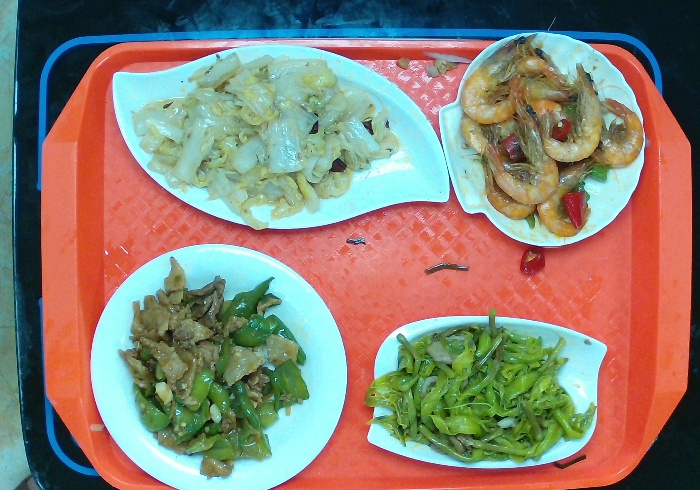RJxy-Bei_Ke_Wan: (438, 30, 647, 248)
RJxy-Jian_Jiao_Fang_Die: (364, 313, 610, 471)
RJxy-Jian_Jiao_Pan: (107, 40, 456, 232)
RJxy-Yuan_Pan: (87, 239, 348, 490)
